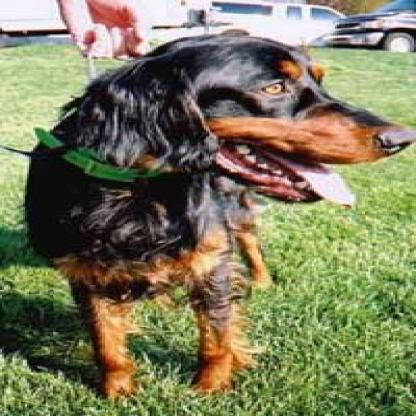Gordon_setter: (16, 32, 410, 398)
